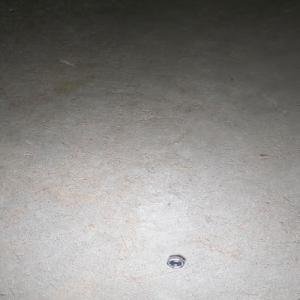Nut: (167, 255, 187, 269)
